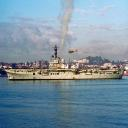Portanaves: (4, 45, 128, 83)
